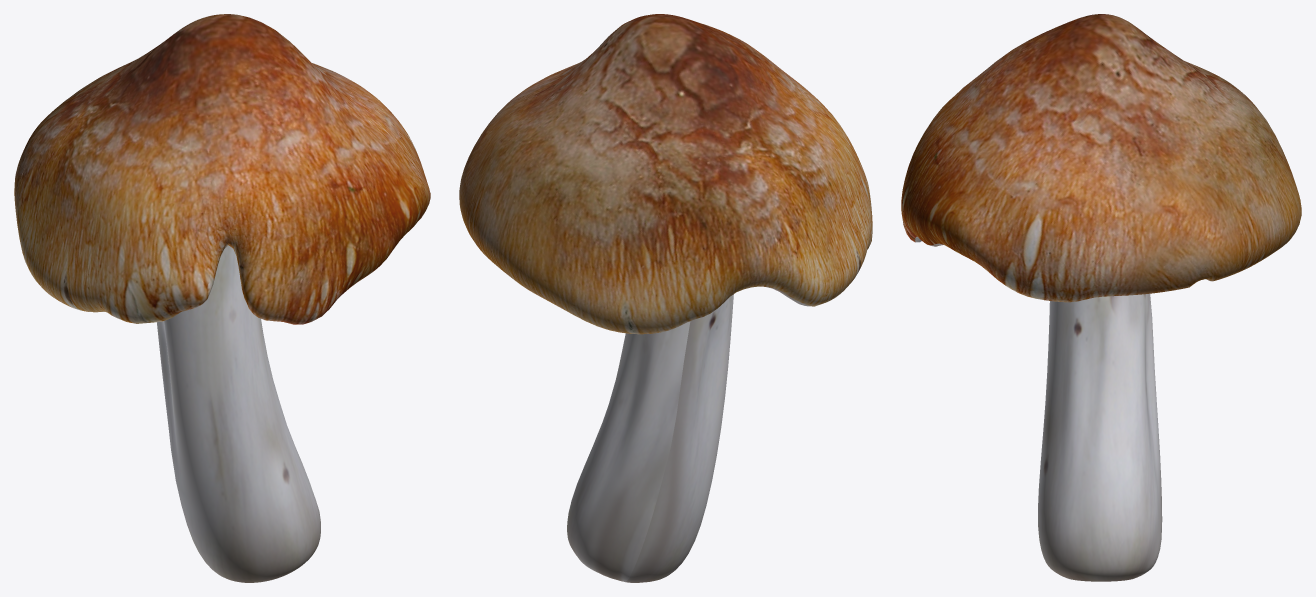
The model's file is SENE_07.fbx.
The picture shows the model from 3 angles, left to right: view 1: azimuth 30°, elevation 25°; view 2: azimuth 150°, elevation 25°; view 3: azimuth 270°, elevation 25°; orthographic projection. The views are drawn at different scales.
Visible parts, largest first — view 1: SENE_07; view 2: SENE_07; view 3: SENE_07.
Boxes of the visible parts, x1,y1,x2,y2 form: SENE_07: [14, 14, 430, 582]; SENE_07: [459, 14, 872, 582]; SENE_07: [901, 14, 1301, 581].
Size of the model in its own units: 29.93 by 44.71 by 29.92.
Materials: 1 (1 with a texture image).
